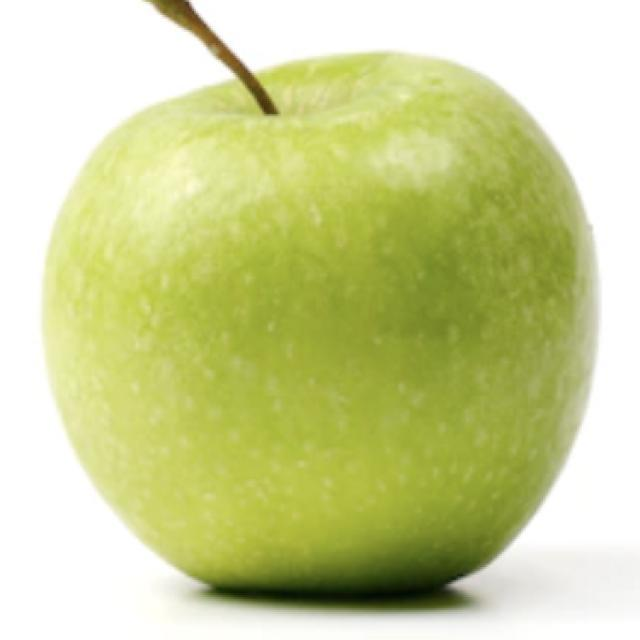Fresh Apple: (75, 58, 582, 597)
